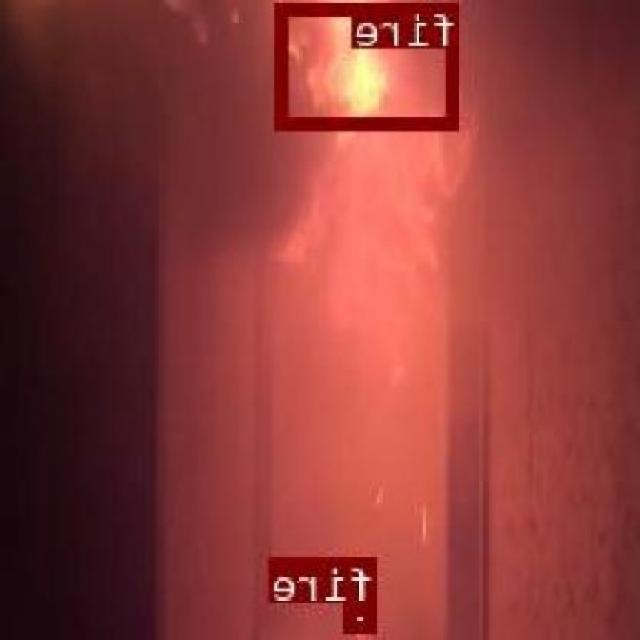Fire: (267, 138, 473, 378), (280, 2, 462, 127), (346, 602, 379, 630)
